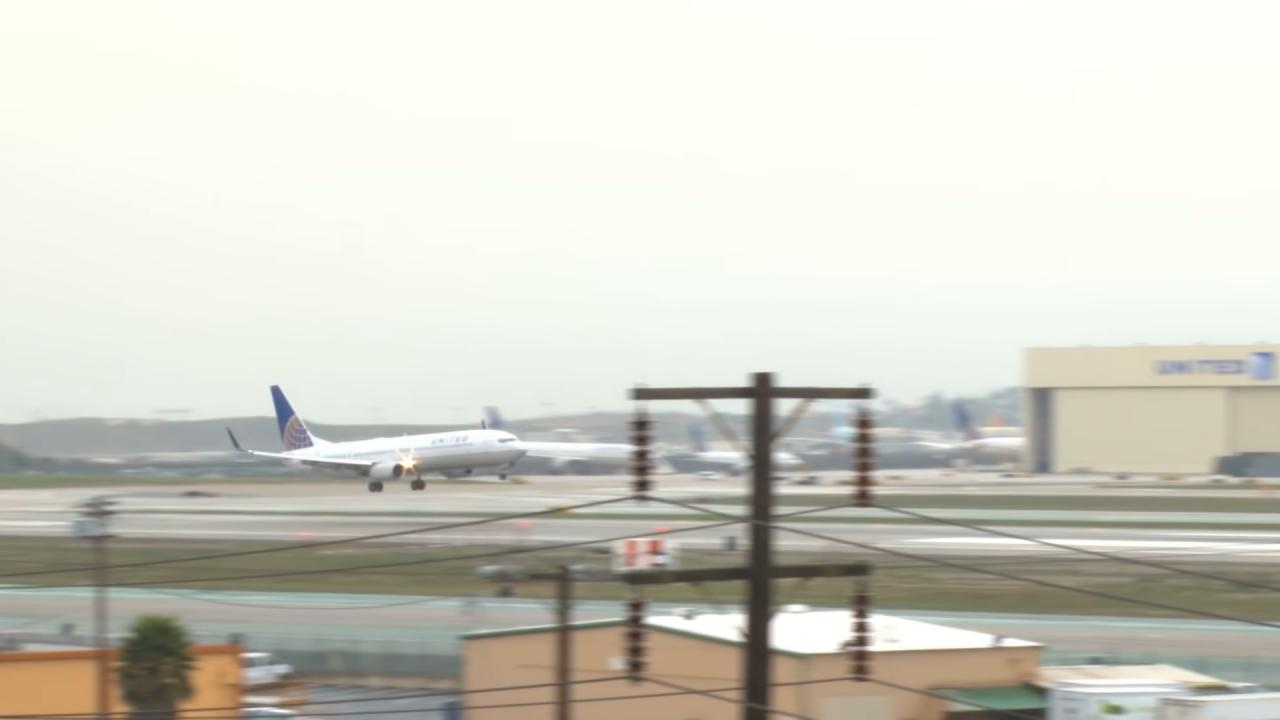Airplane: (216, 372, 544, 501)
